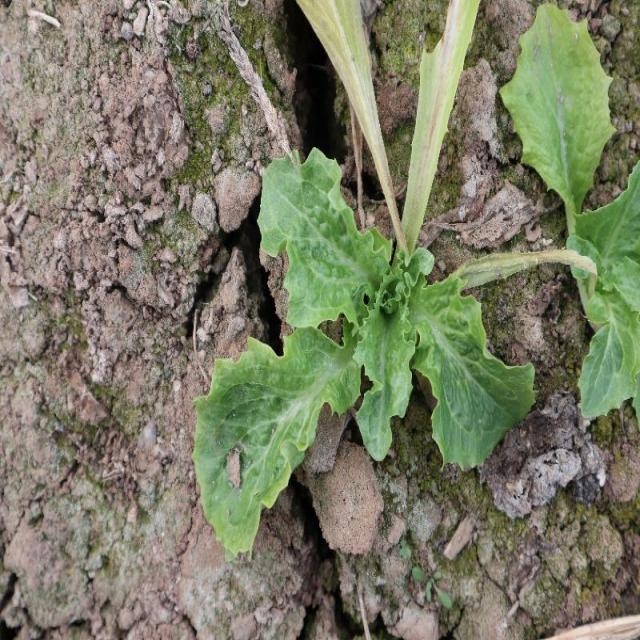crop: (192, 4, 640, 558)
